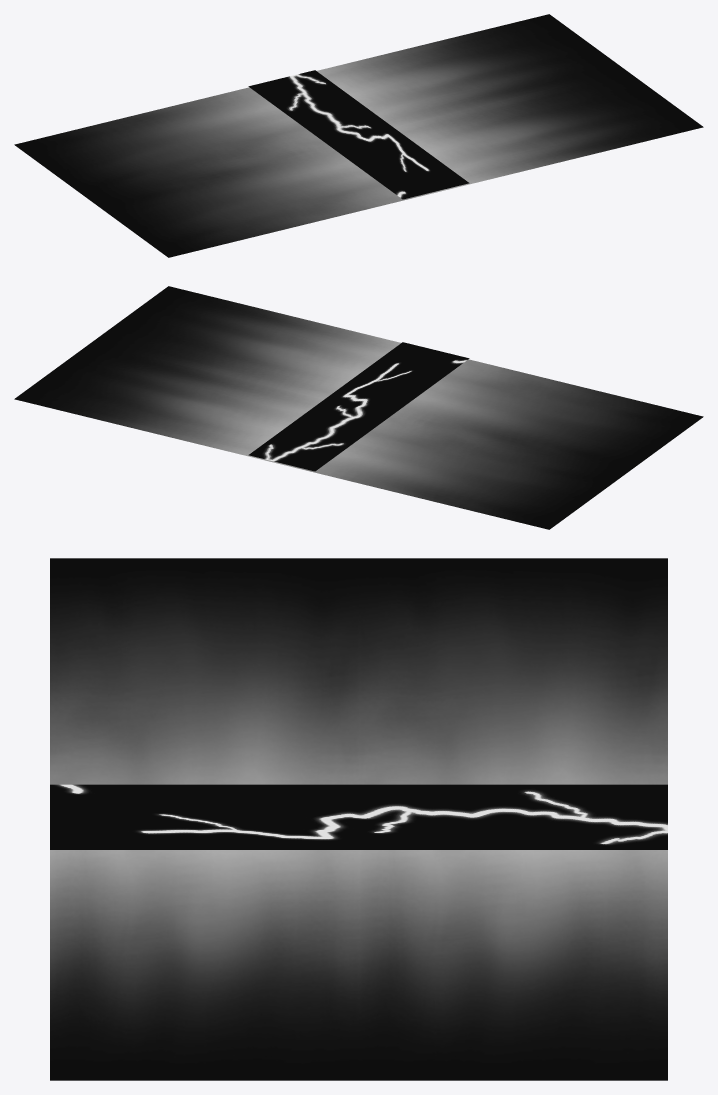
The model's file is lightning3.glb.
3 views of the same model, one above another, from view 1: azimuth 30°, elevation 25°; view 2: azimuth 150°, elevation 25°; view 3: azimuth 270°, elevation 25° (orthographic). The views are drawn at different scales.
Visible parts, largest first — view 1: gfx_lightningGlow_a.jpg__, gfx_lightning_a.jpg__; view 2: gfx_lightningGlow_a.jpg__, gfx_lightning_a.jpg__; view 3: gfx_lightningGlow_a.jpg__, gfx_lightning_a.jpg__.
Part boxes in pixels (x1,y1,x2,y2): gfx_lightningGlow_a.jpg__: [14, 14, 703, 257]; gfx_lightning_a.jpg__: [248, 70, 469, 199]; gfx_lightningGlow_a.jpg__: [14, 286, 703, 529]; gfx_lightning_a.jpg__: [248, 342, 469, 471]; gfx_lightningGlow_a.jpg__: [50, 558, 667, 1080]; gfx_lightning_a.jpg__: [50, 784, 667, 849].
Bounding box in the file's own units: 4 × 0.00826 × 2.
Materials: 2 (2 with a texture image).
